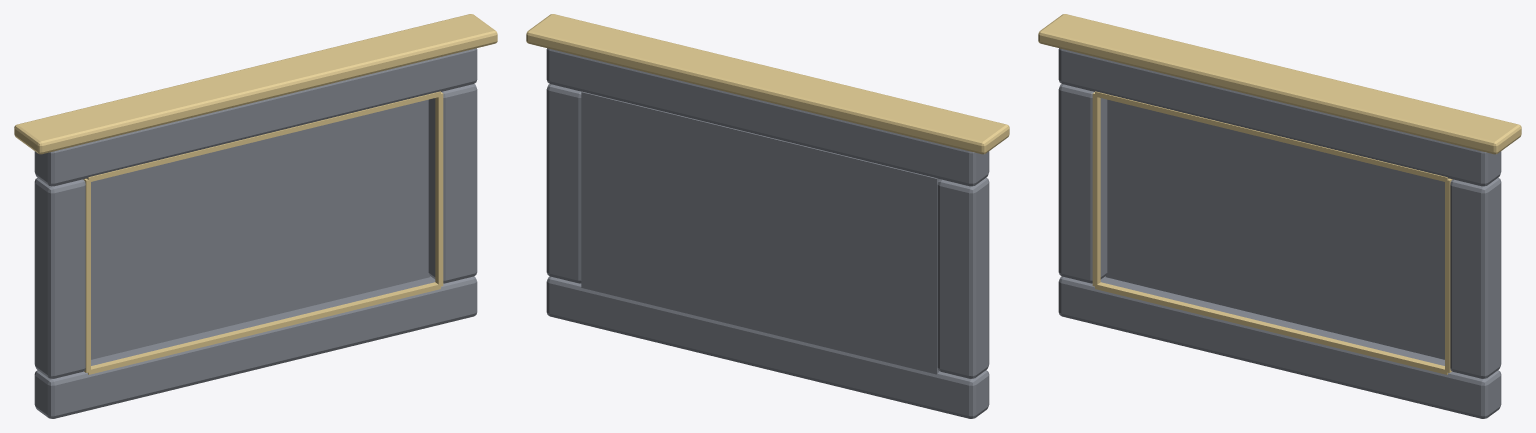
Rendered from prop_names_board_frame.glb.
The picture shows the model from 3 angles, left to right: view 1: azimuth 30°, elevation 25°; view 2: azimuth 150°, elevation 25°; view 3: azimuth 330°, elevation 25°; orthographic projection.
Visible parts, largest first — view 1: Frame; view 2: Frame; view 3: Frame.
Boxes of the visible parts, <box> form: Frame: <box>14,14,497,418</box>; Frame: <box>526,14,1009,418</box>; Frame: <box>1038,14,1521,418</box>.
Bounding box in the file's own units: 3 × 1.78 × 0.3.
